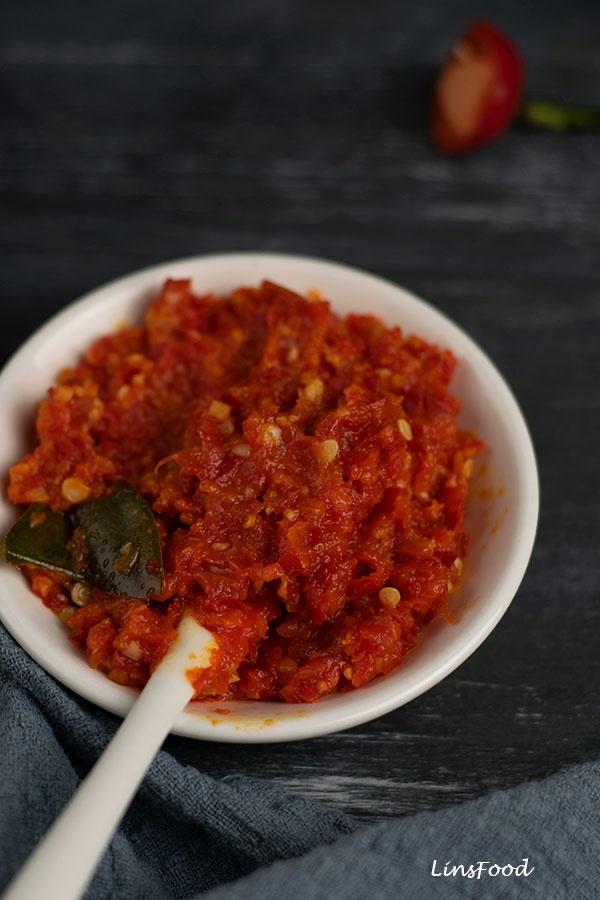sambal: (2, 278, 479, 703)
